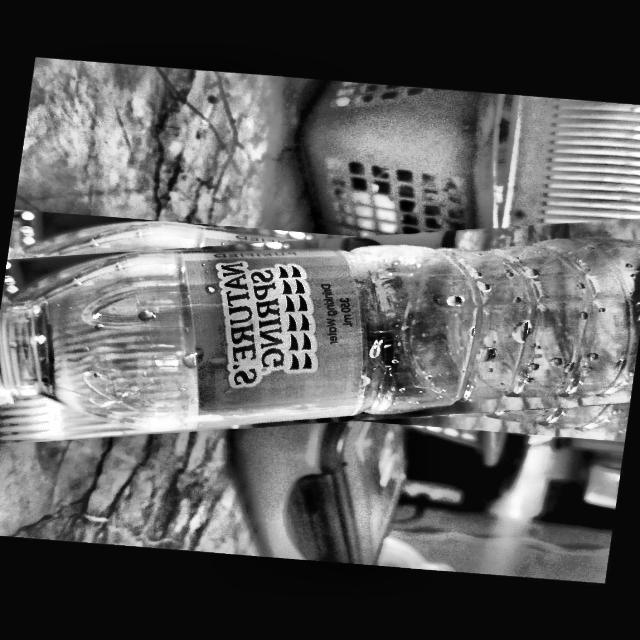Plastic-Bottle: (0, 182, 640, 469)
